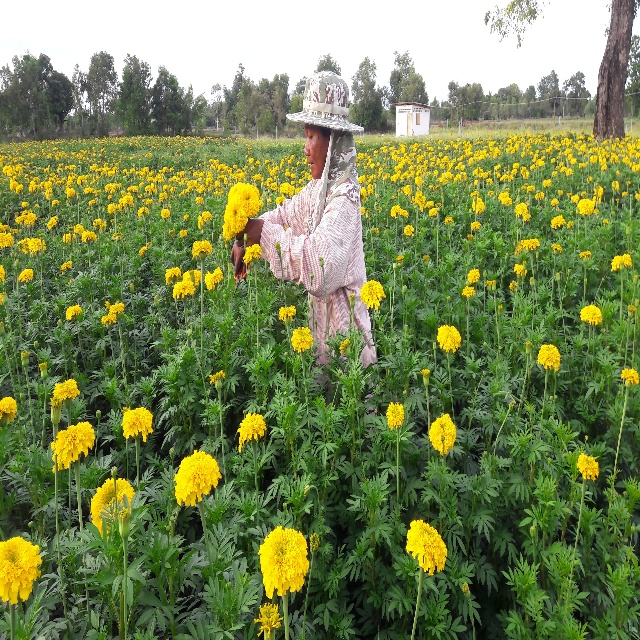Sin_guantes: (239, 216, 261, 252), (229, 241, 247, 280)
